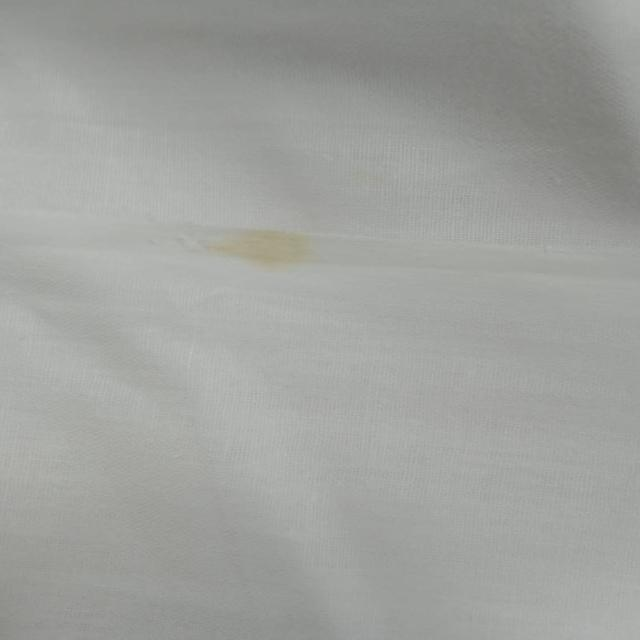stain: (179, 216, 324, 271)
